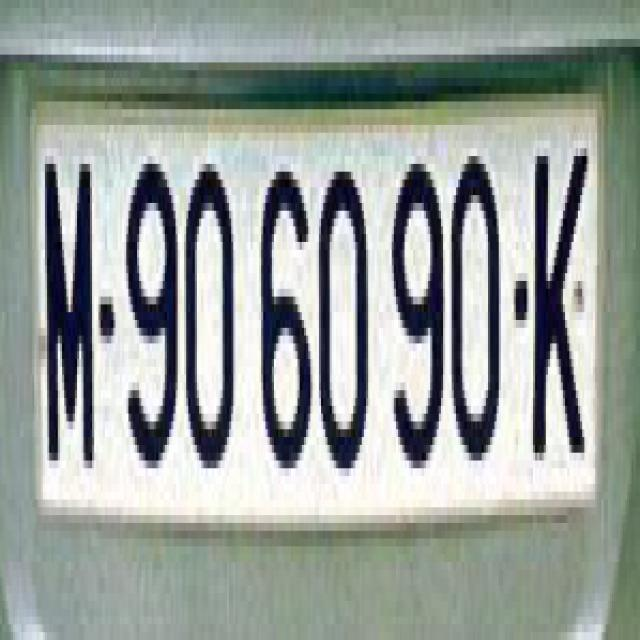0: (180, 126, 238, 496), (449, 134, 506, 488), (316, 154, 373, 476)
6: (254, 136, 316, 487)
9: (121, 127, 185, 510), (384, 145, 449, 491)
K: (530, 127, 594, 487)
M: (34, 118, 106, 484)
